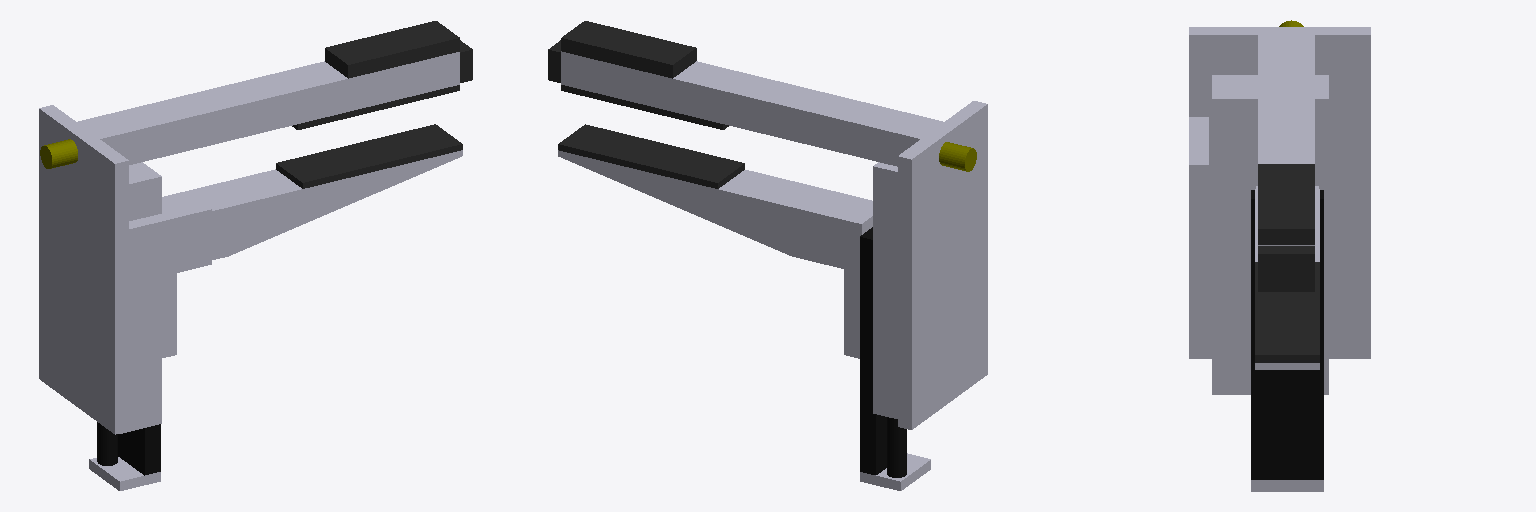
robot.urdf — uni:
<?xml version="1.0" ?>
<!-- =================================================================================== -->
<!-- |    This document was autogenerated by xacro from new_unigripper_macro.xacro     | -->
<!-- |    EDITING THIS FILE BY HAND IS NOT RECOMMENDED                                 | -->
<!-- =================================================================================== -->
<robot name="uni" xmlns:xacro="http://ros.org/wiki/xacro">
  <link name="main_plate">
    <visual>
      <geometry>
        <box size="0.012 0.112 0.22"/>
      </geometry>
      <material name="silver">
        <color rgba="0.76 0.76 0.82 1"/>
      </material>
    </visual>
    <collision>
      <origin rpy="0 0 0" xyz="0 0 0"/>
      <geometry>
        <box size="0.012 0.112 0.22"/>
      </geometry>
      <material name="silver">
        <color rgba="0.76 0.76 0.82 1"/>
      </material>
    </collision>
    <inertial>
      <origin rpy="0 0 0" xyz="0 0 0"/>
      <mass value="0.0"/>
      <inertia ixx="0" ixy="0" ixz="0" iyy="0" iyz="0" izz="0"/>
    </inertial>
  </link>
  <link name="air_pipe">
    <visual>
      <geometry>
        <cylinder length="0.022" radius="0.009"/>
      </geometry>
      <material name="gold">
        <color rgba="0.5 0.5 0.0 1"/>
      </material>
    </visual>
    <collision>
      <origin rpy="0 0 0" xyz="0 0 0"/>
      <geometry>
        <cylinder length="0.022" radius="0.009"/>
      </geometry>
      <material name="gold">
        <color rgba="0.5 0.5 0.0 1"/>
      </material>
    </collision>
    <inertial>
      <origin rpy="0 0 0" xyz="0 0 0"/>
      <mass value="0.0"/>
      <inertia ixx="0" ixy="0" ixz="0" iyy="0" iyz="0" izz="0"/>
    </inertial>
  </link>
  <link name="camera_place">
    <visual>
      <geometry>
        <box size="0.07 0.012 0.045"/>
      </geometry>
      <material name="silver">
        <color rgba="0.76 0.76 0.82 1"/>
      </material>
    </visual>
    <collision>
      <origin rpy="0 0 0" xyz="0 0 0"/>
      <geometry>
        <box size="0.07 0.012 0.045"/>
      </geometry>
      <material name="silver">
        <color rgba="0.76 0.76 0.82 1"/>
      </material>
    </collision>
    <inertial>
      <origin rpy="0 0 0" xyz="0 0 0"/>
      <mass value="0.0"/>
      <inertia ixx="0" ixy="0" ixz="0" iyy="0" iyz="0" izz="0"/>
    </inertial>
  </link>
  <link name="upper_jaw">
    <visual>
      <geometry>
        <box size="0.306 0.035 0.027"/>
      </geometry>
      <material name="silver">
        <color rgba="0.76 0.76 0.82 1"/>
      </material>
    </visual>
    <collision>
      <origin rpy="0 0 0" xyz="0 0 0"/>
      <geometry>
        <box size="0.306 0.035 0.027"/>
      </geometry>
      <material name="silver">
        <color rgba="0.76 0.76 0.82 1"/>
      </material>
    </collision>
    <inertial>
      <origin rpy="0 0 0" xyz="0 0 0"/>
      <mass value="0.0"/>
      <inertia ixx="0" ixy="0" ixz="0" iyy="0" iyz="0" izz="0"/>
    </inertial>
  </link>
  <link name="upper_vacuum">
    <visual>
      <geometry>
        <box size="0.095 0.035 0.011"/>
      </geometry>
      <material name="dark_grey">
        <color rgba="0.2 0.2 0.2 1"/>
      </material>
    </visual>
    <collision>
      <origin rpy="0 0 0" xyz="0 0 0"/>
      <geometry>
        <box size="0.095 0.035 0.011"/>
      </geometry>
      <material name="dark_grey">
        <color rgba="0.2 0.2 0.2 1"/>
      </material>
    </collision>
    <inertial>
      <origin rpy="0 0 0" xyz="0 0 0"/>
      <mass value="0.0"/>
      <inertia ixx="0" ixy="0" ixz="0" iyy="0" iyz="0" izz="0"/>
    </inertial>
  </link>
  <link name="front_vacuum">
    <visual>
      <geometry>
        <box size="0.011 0.035 0.025"/>
      </geometry>
      <material name="dark_grey">
        <color rgba="0.2 0.2 0.2 1"/>
      </material>
    </visual>
    <collision>
      <origin rpy="0 0 0" xyz="0 0 0"/>
      <geometry>
        <box size="0.011 0.035 0.025"/>
      </geometry>
      <material name="dark_grey">
        <color rgba="0.2 0.2 0.2 1"/>
      </material>
    </collision>
    <inertial>
      <origin rpy="0 0 0" xyz="0 0 0"/>
      <mass value="0.0"/>
      <inertia ixx="0" ixy="0" ixz="0" iyy="0" iyz="0" izz="0"/>
    </inertial>
  </link>
  <link name="sponge_upper_jaw">
    <visual>
      <geometry>
        <box size="0.138 0.035 0.005"/>
      </geometry>
      <material name="dark_grey">
        <color rgba="0.2 0.2 0.2 1"/>
      </material>
    </visual>
    <collision>
      <origin rpy="0 0 0" xyz="0 0 0"/>
      <geometry>
        <box size="0.138 0.035 0.005"/>
      </geometry>
      <material name="dark_grey">
        <color rgba="0.2 0.2 0.2 1"/>
      </material>
    </collision>
    <inertial>
      <origin rpy="0 0 0" xyz="0 0 0"/>
      <mass value="0.0"/>
      <inertia ixx="0" ixy="0" ixz="0" iyy="0" iyz="0" izz="0"/>
    </inertial>
  </link>
  <link name="motor_box">
    <visual>
      <geometry>
        <box size="0.036 0.072 0.201"/>
      </geometry>
      <material name="silver">
        <color rgba="0.76 0.76 0.82 1"/>
      </material>
    </visual>
    <collision>
      <origin rpy="0 0 0" xyz="0 0 0"/>
      <geometry>
        <box size="0.036 0.072 0.201"/>
      </geometry>
      <material name="silver">
        <color rgba="0.76 0.76 0.82 1"/>
      </material>
    </collision>
    <inertial>
      <origin rpy="0 0 0" xyz="0 0 0"/>
      <mass value="0.0"/>
      <inertia ixx="0" ixy="0" ixz="0" iyy="0" iyz="0" izz="0"/>
    </inertial>
  </link>
  <link name="movable_pipe">
    <visual>
      <geometry>
        <cylinder length="0.103" radius="0.0075"/>
      </geometry>
      <material name="light_black">
        <color rgba="0.1 0.1 0.1 1"/>
      </material>
    </visual>
    <collision>
      <origin rpy="0 0 0" xyz="0 0 0"/>
      <geometry>
        <cylinder length="0.103" radius="0.0075"/>
      </geometry>
      <material name="light_black">
        <color rgba="0.1 0.1 0.1 1"/>
      </material>
    </collision>
    <inertial>
      <origin rpy="0 0 0" xyz="0 0 0"/>
      <mass value="0.0"/>
      <inertia ixx="0" ixy="0" ixz="0" iyy="0" iyz="0" izz="0"/>
    </inertial>
  </link>
  <link name="under_movable_pipe">
    <visual>
      <geometry>
        <box size="0.035 0.045 0.008"/>
      </geometry>
      <material name="silver">
        <color rgba="0.76 0.76 0.82 1"/>
      </material>
    </visual>
    <collision>
      <origin rpy="0 0 0" xyz="0 0 0"/>
      <geometry>
        <box size="0.035 0.045 0.008"/>
      </geometry>
      <material name="silver">
        <color rgba="0.76 0.76 0.82 1"/>
      </material>
    </collision>
    <inertial>
      <origin rpy="0 0 0" xyz="0 0 0"/>
      <mass value="0.0"/>
      <inertia ixx="0" ixy="0" ixz="0" iyy="0" iyz="0" izz="0"/>
    </inertial>
  </link>
  <link name="rail">
    <visual>
      <geometry>
        <box size="0.014 0.045 0.191"/>
      </geometry>
      <material name="light_black">
        <color rgba="0.1 0.1 0.1 1"/>
      </material>
    </visual>
    <collision>
      <origin rpy="0 0 0" xyz="0 0 0"/>
      <geometry>
        <box size="0.014 0.045 0.191"/>
      </geometry>
      <material name="light_black">
        <color rgba="0.1 0.1 0.1 1"/>
      </material>
    </collision>
    <inertial>
      <origin rpy="0 0 0" xyz="0 0 0"/>
      <mass value="0.0"/>
      <inertia ixx="0" ixy="0" ixz="0" iyy="0" iyz="0" izz="0"/>
    </inertial>
  </link>
  <link name="holder_down_paw">
    <visual>
      <geometry>
        <box size="0.015 0.039 0.11"/>
      </geometry>
      <material name="silver">
        <color rgba="0.76 0.76 0.82 1"/>
      </material>
    </visual>
    <collision>
      <origin rpy="0 0 0" xyz="0 0 0"/>
      <geometry>
        <box size="0.015 0.039 0.11"/>
      </geometry>
      <material name="silver">
        <color rgba="0.76 0.76 0.82 1"/>
      </material>
    </collision>
    <inertial>
      <origin rpy="0 0 0" xyz="0 0 0"/>
      <mass value="0.0"/>
      <inertia ixx="0" ixy="0" ixz="0" iyy="0" iyz="0" izz="0"/>
    </inertial>
  </link>
  <link name="down_paw">
    <visual>
      <geometry>
        <mesh filename="package://motoman_sda10f_support/meshes/sda10f/visual/down_paw.stl"/>
      </geometry>
      <material name="silver">
        <color rgba="0.76 0.76 0.82 1"/>
      </material>
    </visual>
    <collision>
      <origin rpy="0 0 0" xyz="0 0 0"/>
      <geometry>
        <mesh filename="package://motoman_sda10f_support/meshes/sda10f/visual/down_paw.stl"/>
      </geometry>
      <material name="silver">
        <color rgba="0.76 0.76 0.82 1"/>
      </material>
    </collision>
    <inertial>
      <origin rpy="0 0 0" xyz="0 0 0"/>
      <mass value="0.0"/>
      <inertia ixx="0" ixy="0" ixz="0" iyy="0" iyz="0" izz="0"/>
    </inertial>
  </link>
  <link name="down_sponge">
    <visual>
      <geometry>
        <box size="0.136 0.04 0.005"/>
      </geometry>
      <material name="dark_grey">
        <color rgba="0.2 0.2 0.2 1"/>
      </material>
    </visual>
    <collision>
      <origin rpy="0 0 0" xyz="0 0 0"/>
      <geometry>
        <box size="0.136 0.04 0.005"/>
      </geometry>
      <material name="dark_grey">
        <color rgba="0.2 0.2 0.2 1"/>
      </material>
    </collision>
    <inertial>
      <origin rpy="0 0 0" xyz="0 0 0"/>
      <mass value="0.00"/>
      <inertia ixx="0" ixy="0" ixz="0" iyy="0" iyz="0" izz="0"/>
    </inertial>
  </link>
  <!-- JOINTS -->
  <joint name="joint_air_pipe" type="fixed">
    <origin rpy="0 1.57 0" xyz="-0.017 0.007 0.095"/>
    <axis xyz="0 0 0"/>
    <parent link="main_plate"/>
    <child link="air_pipe"/>
  </joint>
  <joint name="joint_camera_place" type="fixed">
    <origin rpy="0 0 0" xyz="0.041 -0.05 0.0315"/>
    <axis xyz="0 0 0"/>
    <parent link="main_plate"/>
    <child link="camera_place"/>
  </joint>
  <joint name="joint_upper_jaw" type="fixed">
    <origin rpy="0 0 0.0" xyz="0.159 0.00425 0.0965"/>
    <!-- <origin xyz="0.159 0.007 0.0965" rpy="0 0 0.0" /> -->
    <axis xyz="0 0 0"/>
    <parent link="main_plate"/>
    <child link="upper_jaw"/>
  </joint>
  <joint name="joint_upper_vacuum" type="fixed">
    <origin rpy="0 0 0.0" xyz="0.1055 0 0.019"/>
    <axis xyz="0 0 0"/>
    <parent link="upper_jaw"/>
    <child link="upper_vacuum"/>
  </joint>
  <joint name="joint_front_vacuum" type="fixed">
    <origin rpy="0 0 0" xyz="0.1585 0 0.0"/>
    <axis xyz="0 0 0"/>
    <parent link="upper_jaw"/>
    <child link="front_vacuum"/>
  </joint>
  <joint name="joint_sponge_upper_jaw" type="fixed">
    <origin rpy="0 0 0" xyz="0.084 0 -0.016"/>
    <axis xyz="0 0 0"/>
    <parent link="upper_jaw"/>
    <child link="sponge_upper_jaw"/>
  </joint>
  <joint name="joint_motor_box" type="fixed">
    <origin rpy="0 0 0" xyz="0.024 -0.006 -0.0175"/>
    <axis xyz="0 0 0"/>
    <parent link="main_plate"/>
    <child link="motor_box"/>
  </joint>
<!--   <joint name="joint_movable_pipe" type="prismatic">
    <parent link="motor_box"/>
    <child link="movable_pipe"/>
    <axis xyz="0 0 -1"/>
    <limit effort="50" lower="0.003" upper="0.0515" velocity="0.2"/>
    <origin rpy="0 0 0" xyz="0.0055 0.0225 -0.1005"/>
  </joint> -->
  <joint name="joint_movable_pipe" type="fixed">
    <parent link="motor_box"/>
    <child link="movable_pipe"/>
    <axis xyz="0 0 -1"/>
    <!-- <origin xyz="0.0055 0.0225 -0.1005" rpy="0 0 0" /> -->
    <origin rpy="0 0 0" xyz="0.0055 0.0225 -0.1005"/>
  </joint>
  <joint name="joint_under_movable_pipe" type="fixed">
    <origin rpy="0 0 0" xyz="0.008 -0.012 -0.0555"/>
    <axis xyz="0 0 0"/>
    <parent link="movable_pipe"/>
    <child link="under_movable_pipe"/>
  </joint>
  <joint name="joint_rail" type="fixed">
    <origin rpy="0 0 0" xyz="0.0105 0.0 0.0995"/>
    <axis xyz="0 0 0"/>
    <parent link="under_movable_pipe"/>
    <child link="rail"/>
  </joint>
  <joint name="joint_holder_down_paw" type="fixed">
    <origin rpy="0 0 0" xyz="0.0145 0.0 0.0495"/>
    <axis xyz="0 0 0"/>
    <parent link="rail"/>
    <child link="holder_down_paw"/>
  </joint>
  <joint name="joint_down_paw" type="fixed">
    <origin rpy="1.5708 0 1.5708" xyz="0.0245 0.0 0.035"/>
    <axis xyz="0 0 0"/>
    <parent link="holder_down_paw"/>
    <child link="down_paw"/>
  </joint>
  <joint name="joint_down_sponge" type="fixed">
    <origin rpy="1.5708 1.5708 0" xyz="0.0 0.0225 0.158"/>
    <axis xyz="0 0 0"/>
    <parent link="down_paw"/>
    <child link="down_sponge"/>
  </joint>
</robot>

--- What the picture shows (computed from the rendered views, not written in the file) ---
Views: 3 orthographic renders of the robot side by side, from view 1: azimuth 30°, elevation 25°; view 2: azimuth 150°, elevation 25°; view 3: azimuth 270°, elevation 25°.
Robot: uni — 14 links, 13 joints (13 fixed); root link main_plate; default pose: every joint at zero.
Links seen in each view (by area): view 1: main_plate, upper_jaw, down_paw, motor_box, down_sponge, camera_place, upper_vacuum, rail, under_movable_pipe, holder_down_paw, sponge_upper_jaw, air_pipe (+1 smaller); view 2: main_plate, upper_jaw, down_paw, motor_box, down_sponge, upper_vacuum, rail, holder_down_paw, under_movable_pipe, movable_pipe, sponge_upper_jaw, air_pipe; view 3: main_plate, motor_box, rail, upper_jaw, down_sponge, upper_vacuum, front_vacuum, camera_place, down_paw, under_movable_pipe.
Link boxes in pixels (x1,y1,x2,y2): main_plate: (39, 105, 128, 434); upper_jaw: (77, 52, 459, 164); down_paw: (162, 150, 462, 259); motor_box: (120, 162, 161, 433); down_sponge: (276, 124, 462, 188); camera_place: (129, 203, 211, 284); upper_vacuum: (325, 21, 459, 78); rail: (118, 424, 160, 475); under_movable_pipe: (89, 457, 160, 490); holder_down_paw: (162, 273, 176, 357); sponge_upper_jaw: (292, 85, 459, 129); air_pipe: (40, 139, 77, 168); main_plate: (898, 101, 987, 429); upper_jaw: (561, 51, 943, 166); down_paw: (558, 150, 872, 271); motor_box: (873, 162, 897, 418); down_sponge: (558, 124, 744, 188); upper_vacuum: (561, 21, 696, 78); rail: (860, 227, 886, 474); holder_down_paw: (844, 210, 872, 358); under_movable_pipe: (860, 453, 930, 490); movable_pipe: (887, 417, 906, 477); sponge_upper_jaw: (561, 85, 728, 129); air_pipe: (939, 142, 976, 171); main_plate: (1189, 27, 1370, 358); motor_box: (1212, 75, 1328, 394); rail: (1251, 190, 1323, 479); upper_jaw: (1258, 35, 1314, 245); down_sponge: (1255, 262, 1319, 362); upper_vacuum: (1258, 164, 1314, 244); front_vacuum: (1258, 246, 1314, 290); camera_place: (1189, 117, 1208, 231); down_paw: (1255, 189, 1319, 369); under_movable_pipe: (1251, 480, 1323, 491).
Size in the robot's own frame: 0.351 by 0.112 by 0.2985 metres.
Meshes: 1 distinct files referenced, 1 mesh visuals loaded (1 binary STL).